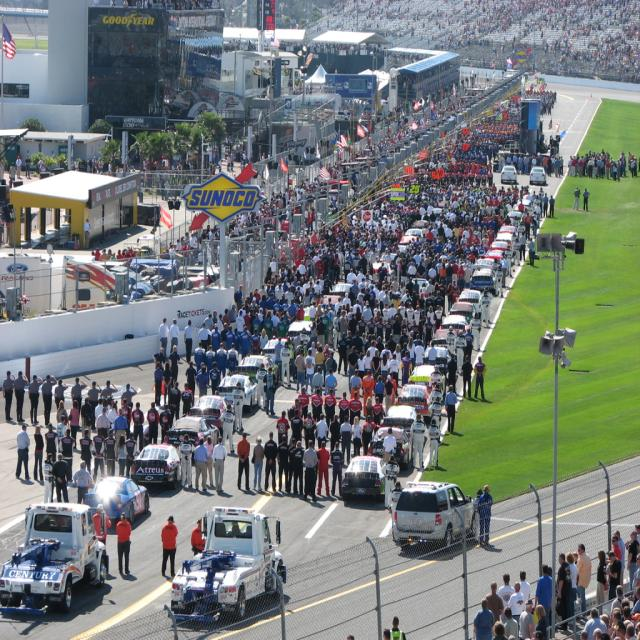car: (498, 164, 517, 184), (528, 165, 546, 185)
